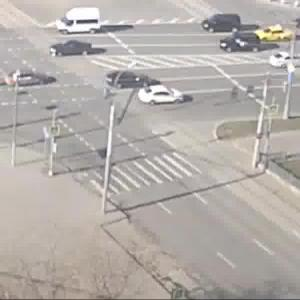car: (139, 80, 189, 104), (55, 10, 105, 33), (5, 68, 60, 88), (202, 10, 247, 33), (254, 27, 300, 49), (108, 67, 158, 85), (55, 38, 95, 58), (217, 36, 262, 53), (275, 48, 300, 67)
